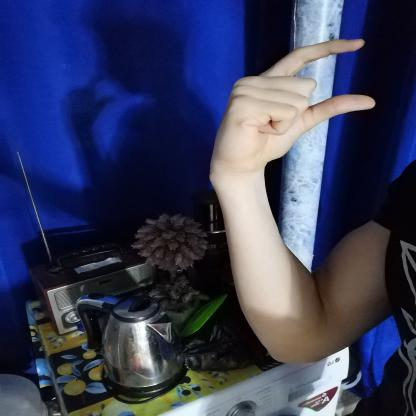DELL: (201, 29, 390, 183)
